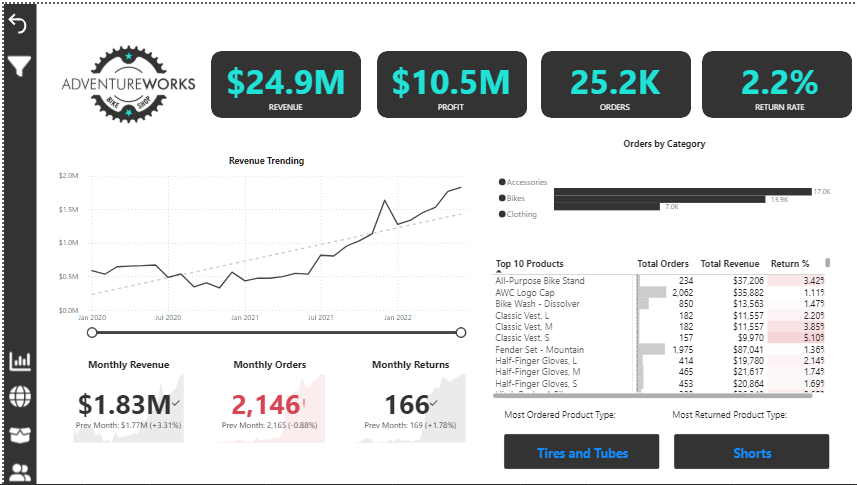

What the dashboard file says about the page in this screenshot:
{"tool":"powerbi","page":{"name":"Executive Dashboard","canvas":[1280,720],"ordinal":0},"visuals":[{"type":"image","title":"AW Logo","box":[64.3,8.6,244.3,222.9],"z":0},{"type":"card","fields":{"Values":["Measure Table.Total Revenue"]},"box":[298.6,40,244.3,160],"z":0,"group":"g2"},{"type":"shape","box":[308.6,70,224.3,100],"z":0,"group":"g1"},{"type":"group","id":"g1","title":"KPI Backgrounds","box":[308.6,70,957.1,100],"z":0,"group":"g3"},{"type":"actionButton","box":[0,513.9,48.6,40.3],"z":0,"group":"g4"},{"type":"shape","title":"Left Nav Background","box":[0,0,48.6,720],"z":1000},{"type":"group","id":"g2","title":"KPI Values","box":[298.6,40,981.4,160],"z":1000,"group":"g3"},{"type":"card","fields":{"Values":["Measure Table.Return Rate"]},"box":[1035.7,40,244.3,160],"z":1000,"group":"g2"},{"type":"shape","box":[555.7,70,224.3,100],"z":1000,"group":"g1"},{"type":"actionButton","box":[0,624.1,48.6,40.3],"z":1000,"group":"g4"},{"type":"group","id":"g3","title":"KPIs","box":[298.6,40,981.4,160],"z":2000},{"type":"card","fields":{"Values":["Measure Table.Total Orders"]},"box":[790,40,244.3,160],"z":2000,"group":"g2"},{"type":"shape","box":[801.5,70,224.3,100],"z":2000,"group":"g1"},{"type":"actionButton","box":[0,679.2,48.6,40.3],"z":2000,"group":"g4"},{"type":"card","fields":{"Values":["Measure Table.Total Profit"]},"box":[544.3,40,244.3,160],"z":3000,"group":"g2"},{"type":"shape","box":[1041.5,70,224.3,100],"z":3000,"group":"g1"},{"type":"lineChart","title":"Revenue Trending","fields":{"Category":["Calendar Lookup.Start of Month"],"Y":["Measure Table.Total Revenue"]},"box":[76.2,225.4,631.7,276.2],"z":3000},{"type":"actionButton","box":[0,566.7,48.6,40.3],"z":3000,"group":"g4"},{"type":"kpi","title":"Monthly Revenue","fields":{"Goal":["Measure Table.Previous Month Revenue"],"Indicator":["Measure Table.Total Revenue"],"TrendLine":["Calendar Lookup.Start of Month"]},"box":[98.4,527,174.6,133.3],"z":4000},{"type":"kpi","title":"Monthly Orders","fields":{"Goal":["Measure Table.Previous Month Orders"],"Indicator":["Measure Table.Total Orders"],"TrendLine":["Calendar Lookup.Start of Month"]},"box":[308.7,527,175,133.3],"z":5000},{"type":"kpi","title":"Monthly Returns","fields":{"Goal":["Measure Table.Previous Month Returns"],"Indicator":["Measure Table.Total Returns"],"TrendLine":["Calendar Lookup.Start of Month"]},"box":[519,527,174.6,133.3],"z":6000},{"type":"clusteredBarChart","title":"Orders by Category","fields":{"Series":["Product Categories Lookup.CategoryName"],"Y":["Measure Table.Total Orders"]},"box":[733,200,506,160],"z":7000},{"type":"pivotTable","fields":{"Rows":["Product Lookup.ProductName"],"Values":["Measure Table.Total Orders","Measure Table.Total Revenue","Measure Table.Return Rate"]},"box":[724,373,515,221],"z":8000},{"type":"cardVisual","fields":{"Data":["Min(Product Subcategories Lookup.SubcategoryName)"]},"box":[729,624,268,88],"z":9000},{"type":"textbox","box":[742,599,255,35],"z":10000},{"type":"cardVisual","fields":{"Data":["Min(Product Subcategories Lookup.SubcategoryName)"]},"box":[982,624,268,88],"z":11000},{"type":"textbox","box":[993,599,257,35],"z":12000},{"type":"actionButton","box":[0,8.3,48.6,40.3],"z":13000},{"type":"group","id":"g4","title":"Navigation Buttons","box":[0,513.9,48.6,205.6],"z":14000},{"type":"actionButton","box":[1.6,65.1,42.9,55.6],"z":15000}]}

Visuals, with their boxes on the page's 1280x720 design canvas (x1, y1, x2, y2). These are canvas units, not pixel positions in the 857x485 screenshot, which may show the page scaled, cropped or inside an application window:
"AW Logo" image: <bbox>64, 9, 309, 232</bbox>
card - Measure Table.Total Revenue: <bbox>299, 40, 543, 200</bbox>
shape: <bbox>309, 70, 533, 170</bbox>
"KPI Backgrounds" group: <bbox>309, 70, 1266, 170</bbox>
actionButton: <bbox>0, 514, 49, 554</bbox>
"Left Nav Background" shape: <bbox>0, 0, 49, 720</bbox>
"KPI Values" group: <bbox>299, 40, 1280, 200</bbox>
card - Measure Table.Return Rate: <bbox>1036, 40, 1280, 200</bbox>
shape: <bbox>556, 70, 780, 170</bbox>
actionButton: <bbox>0, 624, 49, 664</bbox>
"KPIs" group: <bbox>299, 40, 1280, 200</bbox>
card - Measure Table.Total Orders: <bbox>790, 40, 1034, 200</bbox>
shape: <bbox>802, 70, 1026, 170</bbox>
actionButton: <bbox>0, 679, 49, 720</bbox>
card - Measure Table.Total Profit: <bbox>544, 40, 789, 200</bbox>
shape: <bbox>1042, 70, 1266, 170</bbox>
"Revenue Trending" lineChart: <bbox>76, 225, 708, 502</bbox>
actionButton: <bbox>0, 567, 49, 607</bbox>
"Monthly Revenue" kpi: <bbox>98, 527, 273, 660</bbox>
"Monthly Orders" kpi: <bbox>309, 527, 484, 660</bbox>
"Monthly Returns" kpi: <bbox>519, 527, 694, 660</bbox>
"Orders by Category" clusteredBarChart: <bbox>733, 200, 1239, 360</bbox>
pivotTable - Product Lookup.ProductName x Measure Table.Total Orders: <bbox>724, 373, 1239, 594</bbox>
cardVisual - Min(Product Subcategories Lookup.SubcategoryName): <bbox>729, 624, 997, 712</bbox>
textbox: <bbox>742, 599, 997, 634</bbox>
cardVisual - Min(Product Subcategories Lookup.SubcategoryName): <bbox>982, 624, 1250, 712</bbox>
textbox: <bbox>993, 599, 1250, 634</bbox>
actionButton: <bbox>0, 8, 49, 49</bbox>
"Navigation Buttons" group: <bbox>0, 514, 49, 720</bbox>
actionButton: <bbox>2, 65, 44, 121</bbox>
